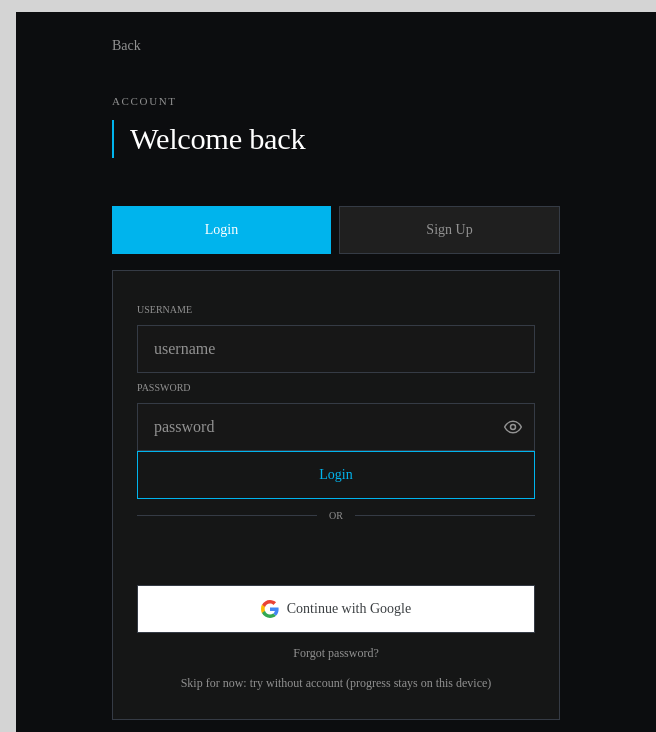
Test: LoginPage › forgot flow sends a reset request with anti-enumeration copy
Click the button "Forgot password?". click: click(336, 652)
box: [293,644,379,660]
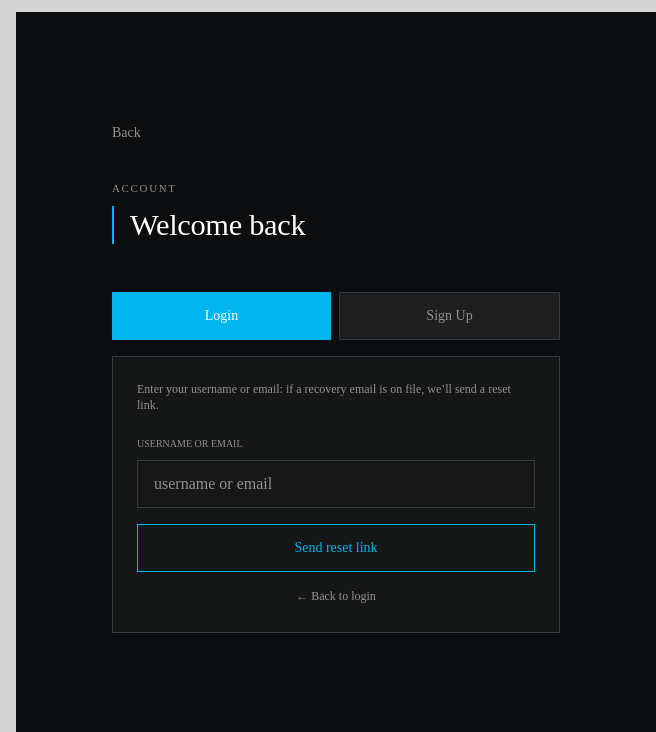
Type "ada" into the field labelled "Username or email". click: (336, 484)
box: [137,460,535,508]
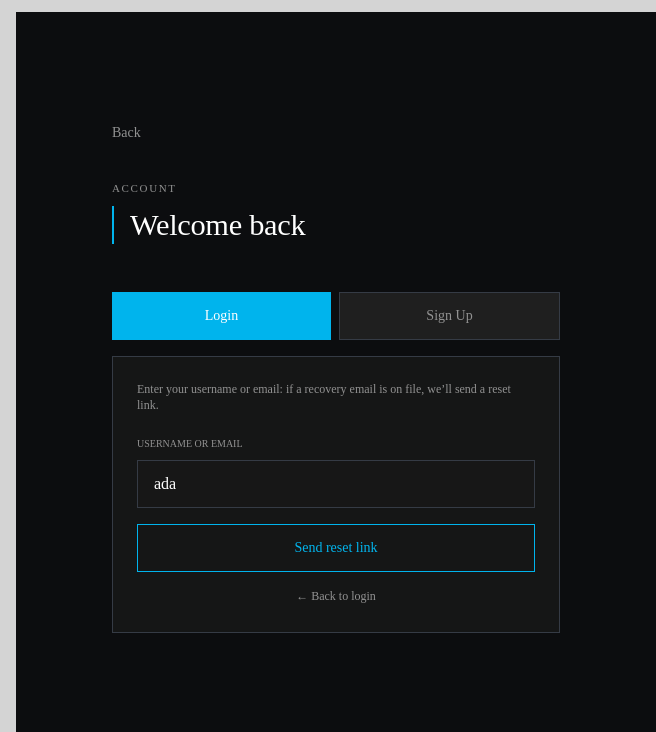
Submit the text "Send reset link", box [137,381,535,608]
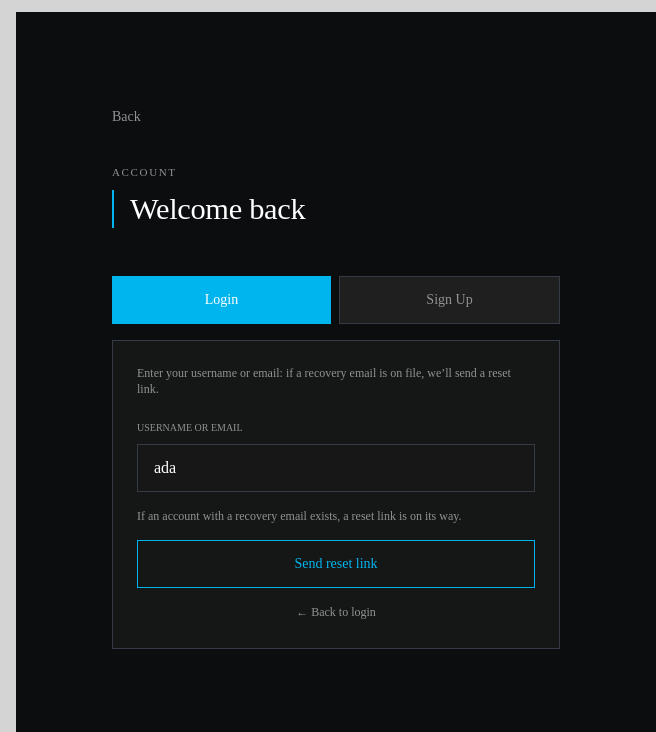
Expected: the text "reset link is on its way" is shown, [137,509,462,523]
